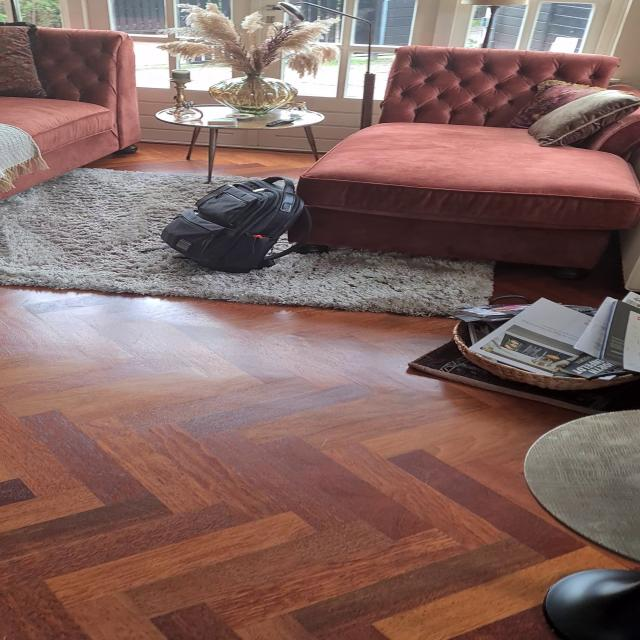backpack: (154, 173, 317, 275)
